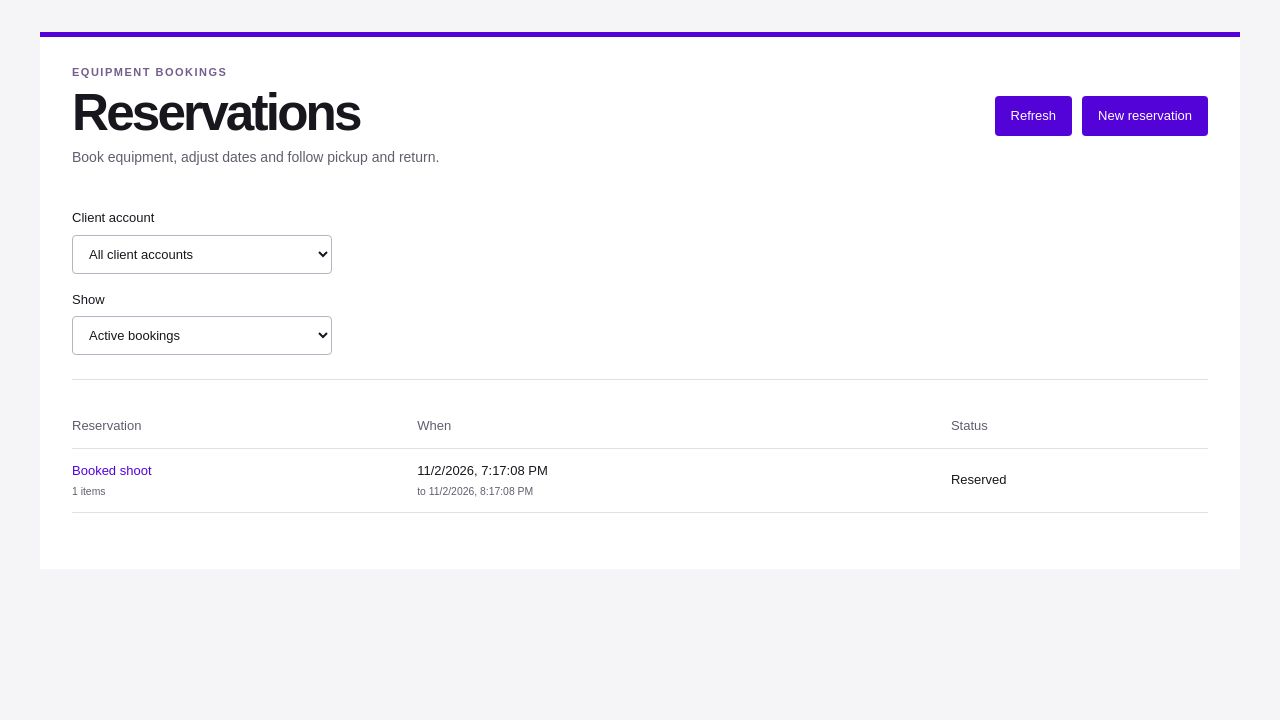
it: Authenticated equipment reservations › shows a leadership-visible booking without editing or cancellation controls
Click the button "Booked shoot". click: (112, 470)
box: [72, 461, 152, 480]
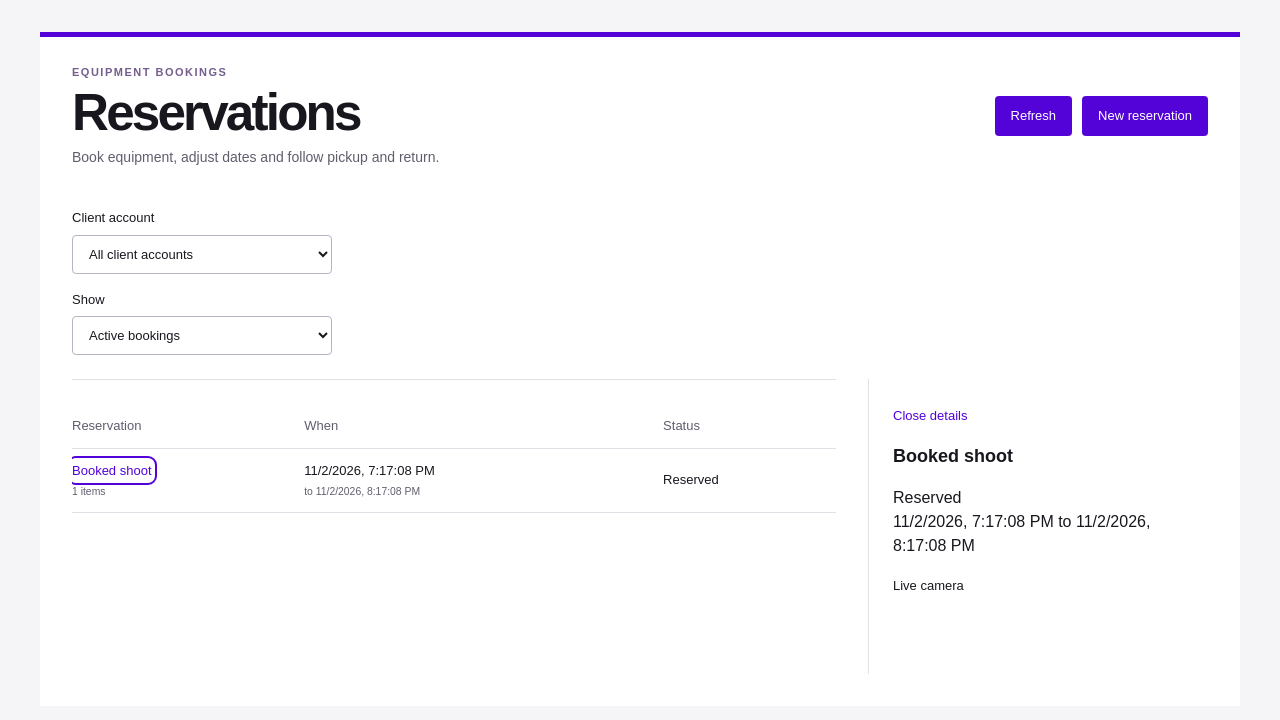
Now the list item "Live camera" is shown, box [893, 578, 964, 593]
